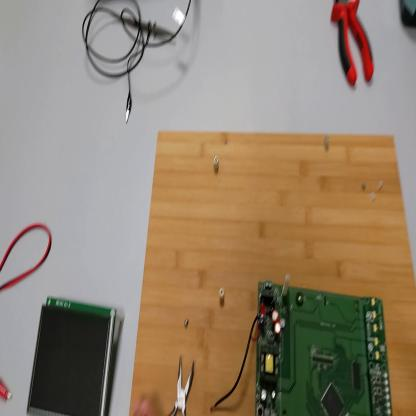hand: (135, 392, 155, 414)
low voltage board: (212, 283, 396, 414)
oscilloscope probe tip: (108, 9, 177, 42)
pliers: (333, 1, 376, 87), (165, 352, 196, 416)
welder station: (402, 2, 416, 22)
working area: (129, 124, 416, 415)
